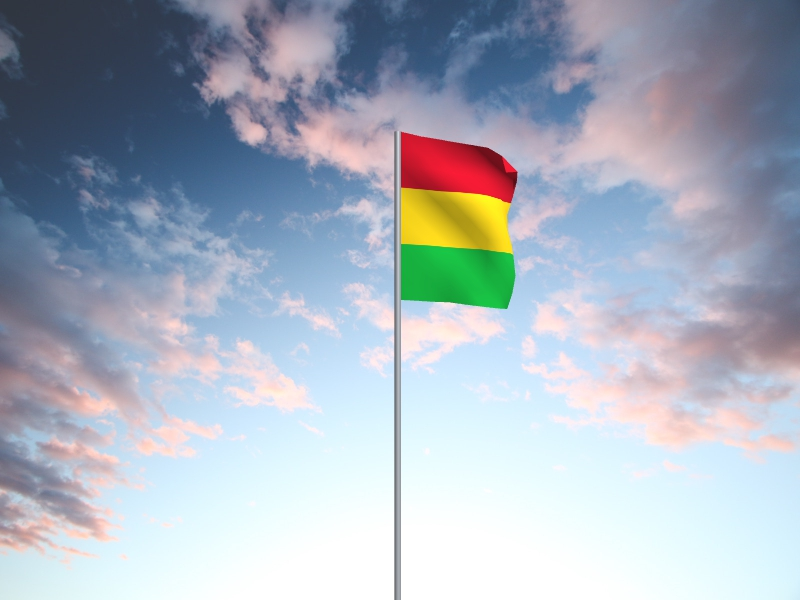ml: (402, 132, 520, 311)
